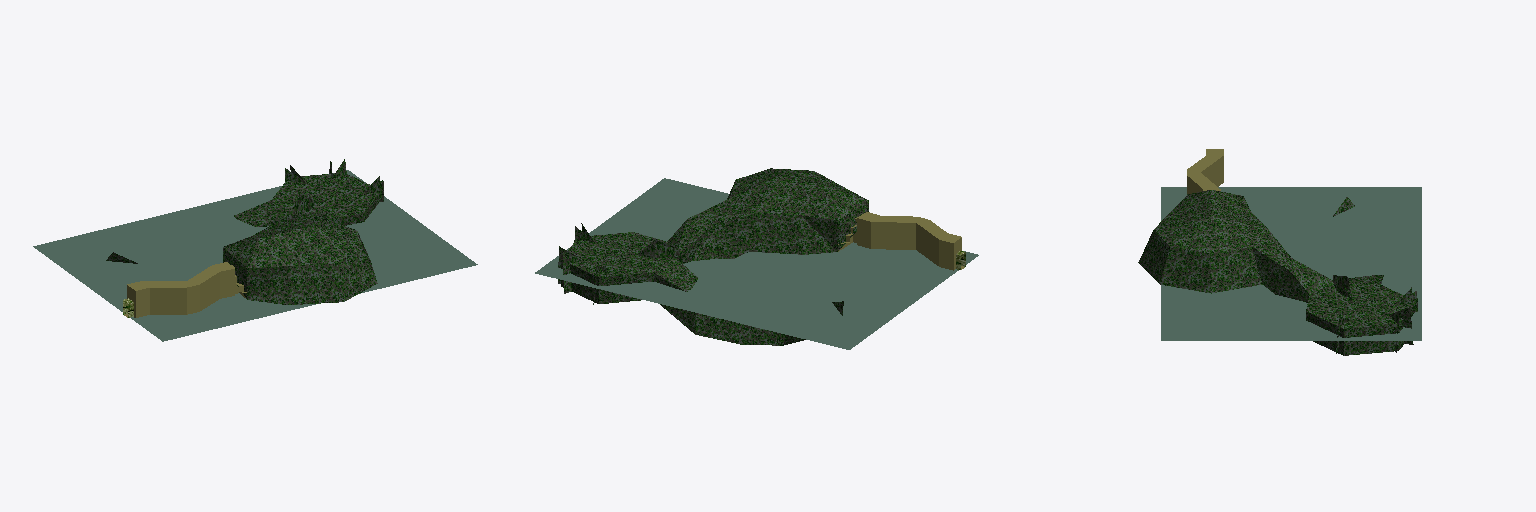
3 views of the same model, side by side, from view 1: azimuth 30°, elevation 25°; view 2: azimuth 150°, elevation 25°; view 3: azimuth 270°, elevation 25° (orthographic).
Visible parts, largest first — view 1: mesh.008; view 2: mesh.008; view 3: mesh.008.
Boxes of the visible parts, box(x1,y1,x2,y2) form: mesh.008: box(33, 159, 477, 341); mesh.008: box(535, 168, 978, 349); mesh.008: box(1138, 149, 1421, 355).
Bounding box in the file's own units: 2281 × 674 × 1719.
Materials: 7 (5 with a texture image).